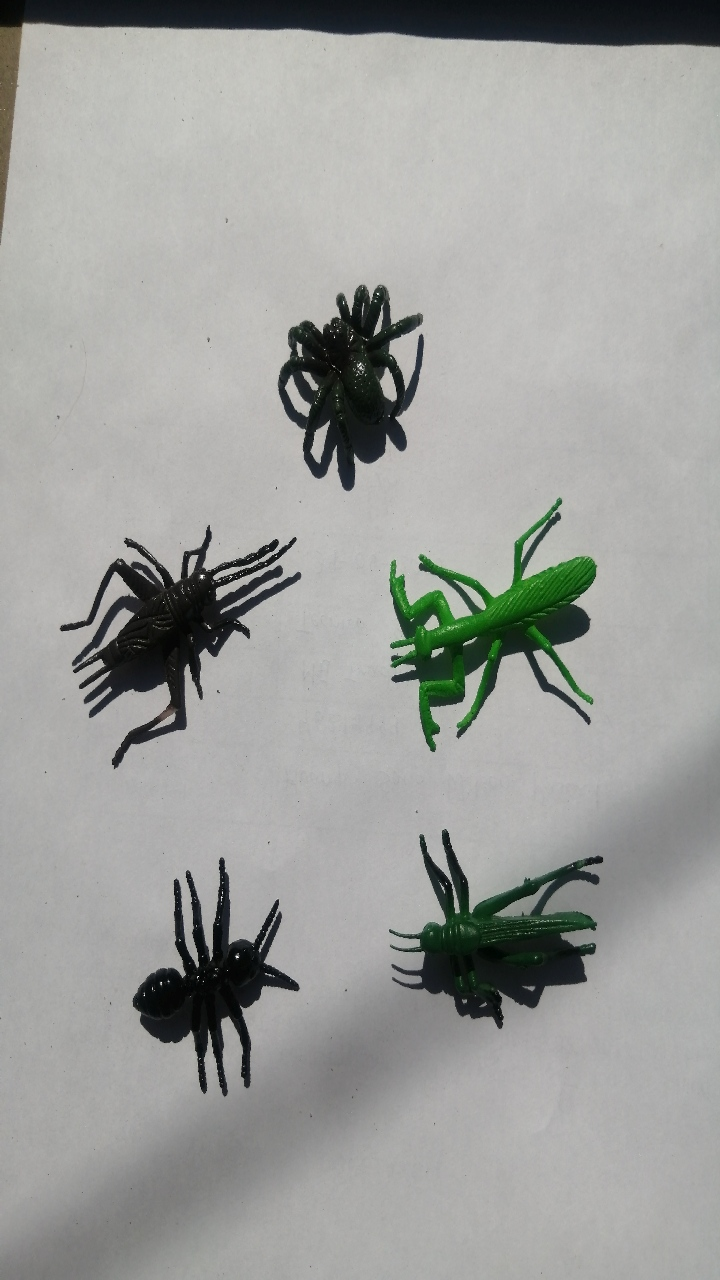intruso: (77, 812, 323, 1132), (360, 486, 634, 766), (378, 780, 637, 1059), (40, 491, 289, 771), (255, 217, 441, 500)
